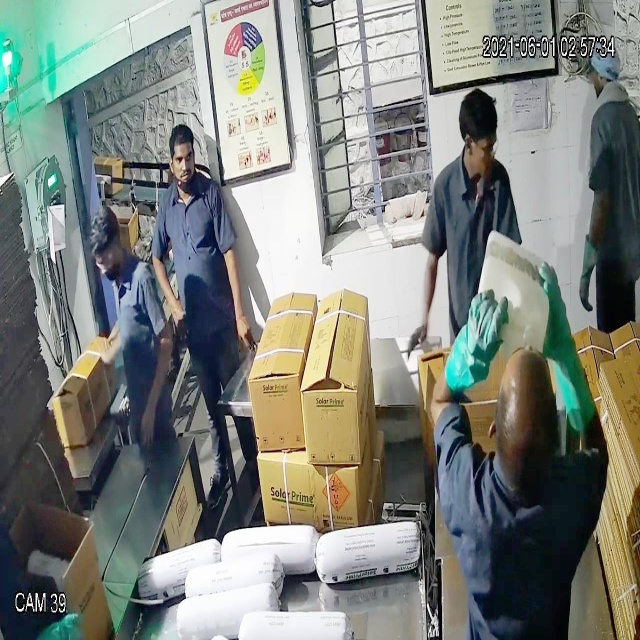Gafas: (458, 121, 503, 166)
